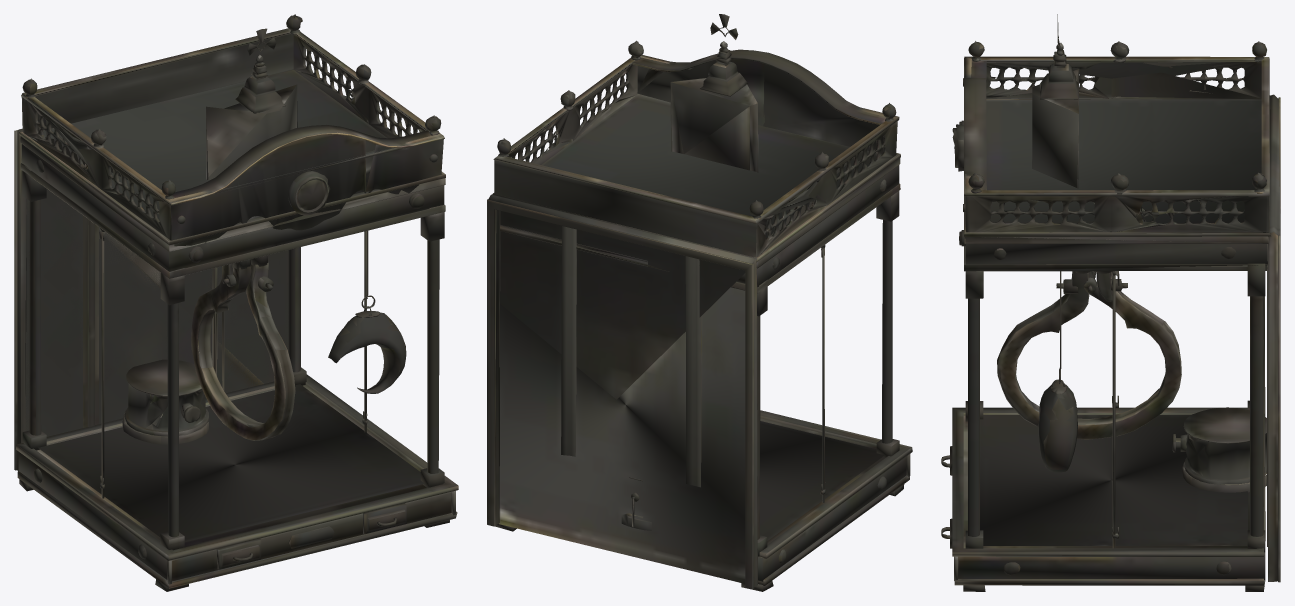
Rendered from claw.glb.
3 views of the same model, side by side, from view 1: azimuth 30°, elevation 25°; view 2: azimuth 150°, elevation 25°; view 3: azimuth 270°, elevation 25° (orthographic). The views are drawn at different scales.
Parts seen in each view (by area): view 1: midway-fit; view 2: midway-fit; view 3: midway-fit.
Boxes of the visible parts, <box> form: midway-fit: <box>14,14,458,591</box>; midway-fit: <box>487,14,912,591</box>; midway-fit: <box>941,14,1280,591</box>.
Bounding box in the file's own units: 0.6142 × 1 × 0.6086.
1 material, 1 textured.
